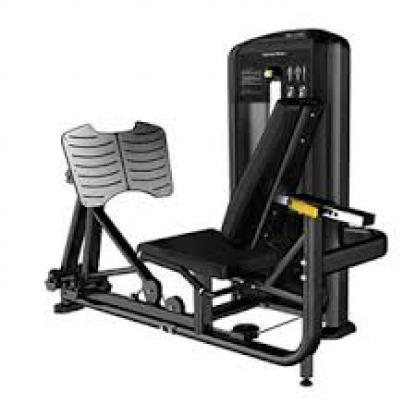leg press: (38, 24, 391, 392)
